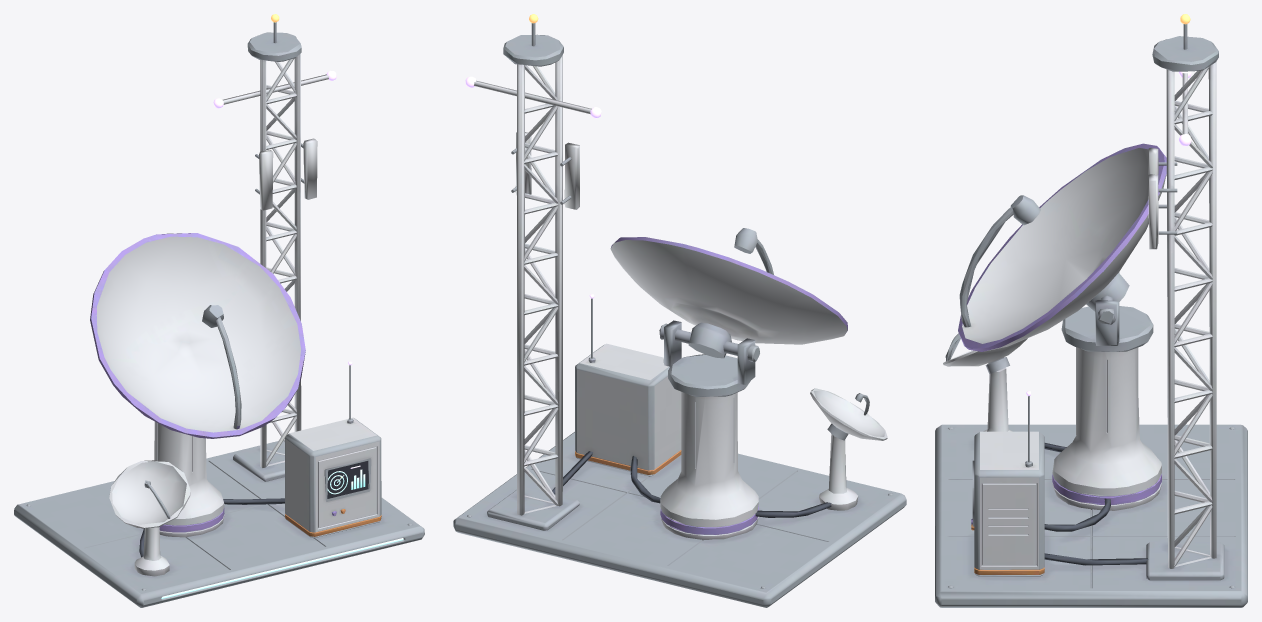
The model's file is antenna-array.glb.
3 views of the same model, side by side, from view 1: azimuth 30°, elevation 25°; view 2: azimuth 150°, elevation 25°; view 3: azimuth 270°, elevation 25° (orthographic). The views are drawn at different scales.
Visible parts, largest first — view 1: antenna-array_body, antenna-array_lights_glow; view 2: antenna-array_body; view 3: antenna-array_body.
Part boxes in pixels (left/top/right/bottom): antenna-array_body: left=14, top=22, right=424, bottom=607; antenna-array_lights_glow: left=161, top=14, right=403, bottom=598; antenna-array_body: left=453, top=23, right=906, bottom=607; antenna-array_body: left=935, top=24, right=1247, bottom=607.
Bounding box in the file's own units: 2.7 × 4 × 2.
Materials: 4 (1 with a texture image).
